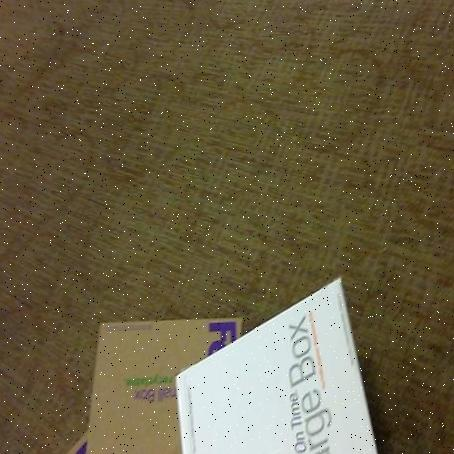Amazon: (182, 275, 360, 454), (84, 302, 253, 454)
